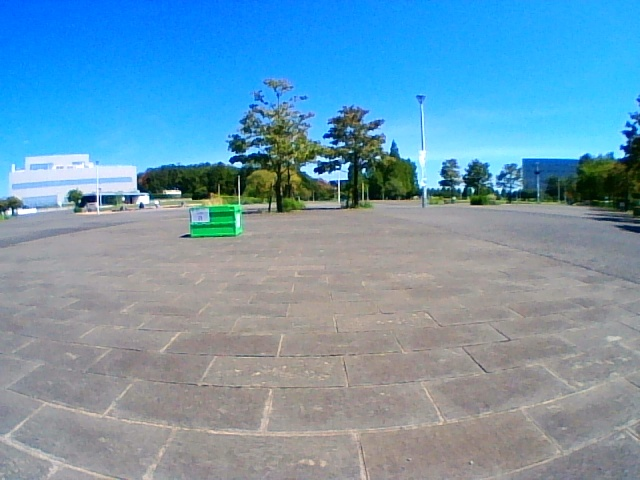green_box: (191, 205, 240, 237)
tag: (192, 210, 208, 222)
